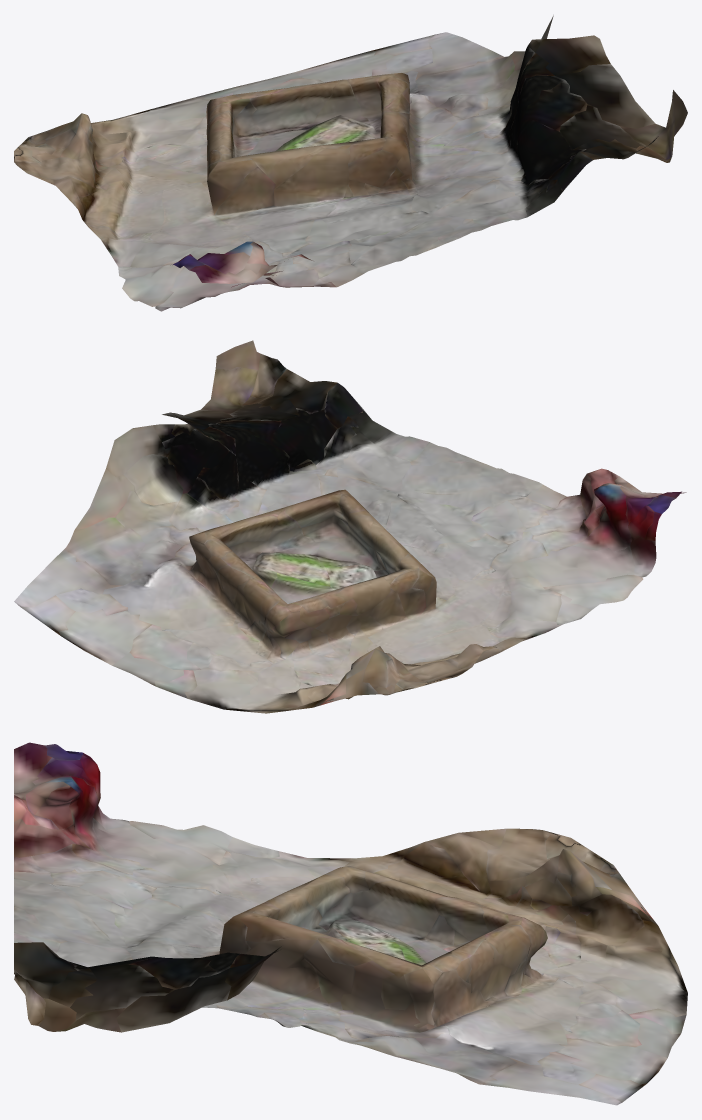
File: hall.glb
3 views of the same model, one above another, from view 1: azimuth 30°, elevation 25°; view 2: azimuth 150°, elevation 25°; view 3: azimuth 270°, elevation 25° (orthographic). The views are drawn at different scales.
Size of the model in its own units: 2.17 by 0.5948 by 2.14.
1 material, 1 textured.
